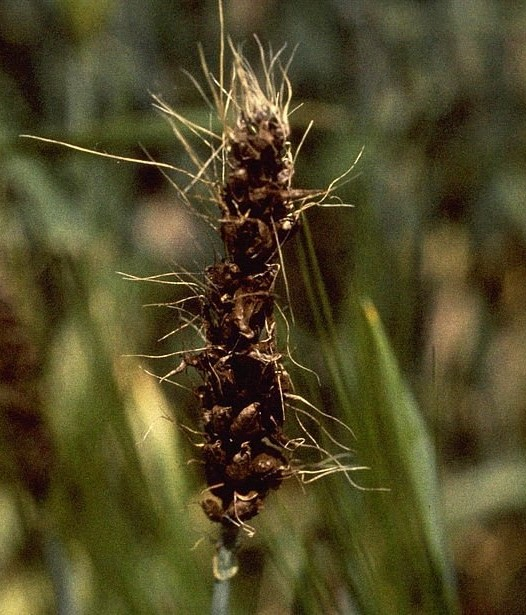Wheat Loose Smut: (157, 82, 316, 520)
